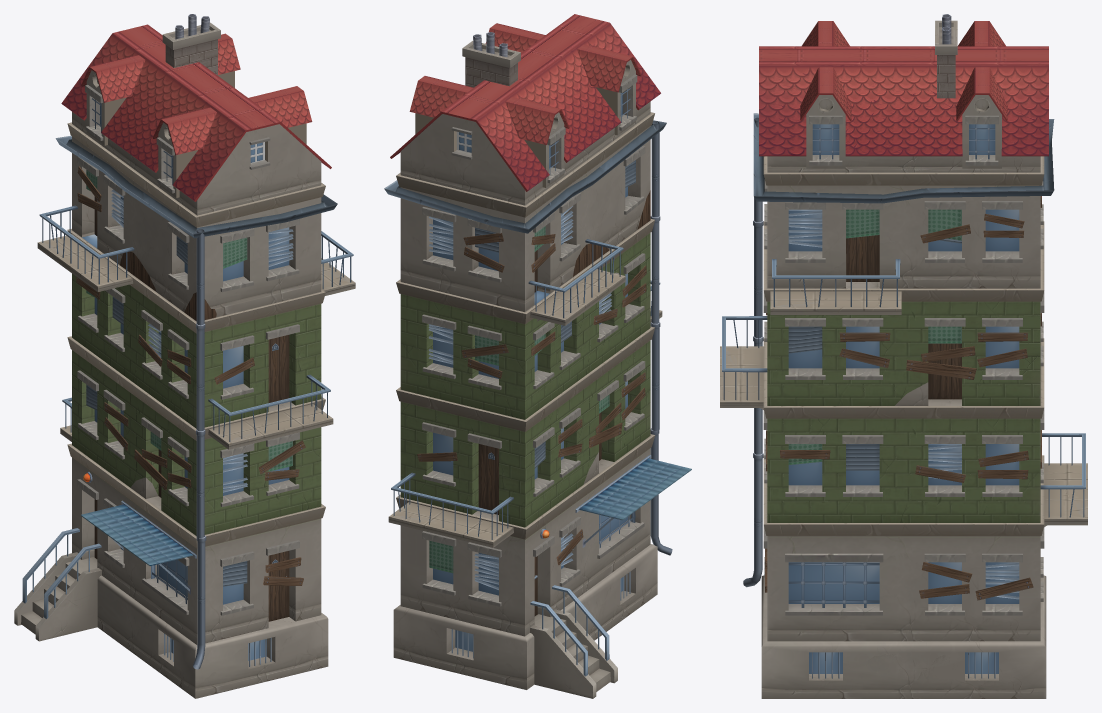
The model's file is Building_01_3_LOD1.fbx.
The picture shows the model from 3 angles, left to right: view 1: azimuth 30°, elevation 25°; view 2: azimuth 150°, elevation 25°; view 3: azimuth 270°, elevation 25°; orthographic projection. The views are drawn at different scales.
Visible parts, largest first — view 1: polySurface3653; view 2: polySurface3653; view 3: polySurface3653.
Boxes of the visible parts, x1,y1,x2,y2 form: polySurface3653: [14, 14, 355, 698]; polySurface3653: [384, 14, 691, 698]; polySurface3653: [720, 14, 1087, 698].
Size of the model in its own units: 719 by 1855 by 942.
